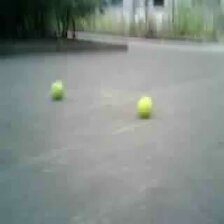tennis: (134, 95, 152, 118), (50, 80, 65, 99)
